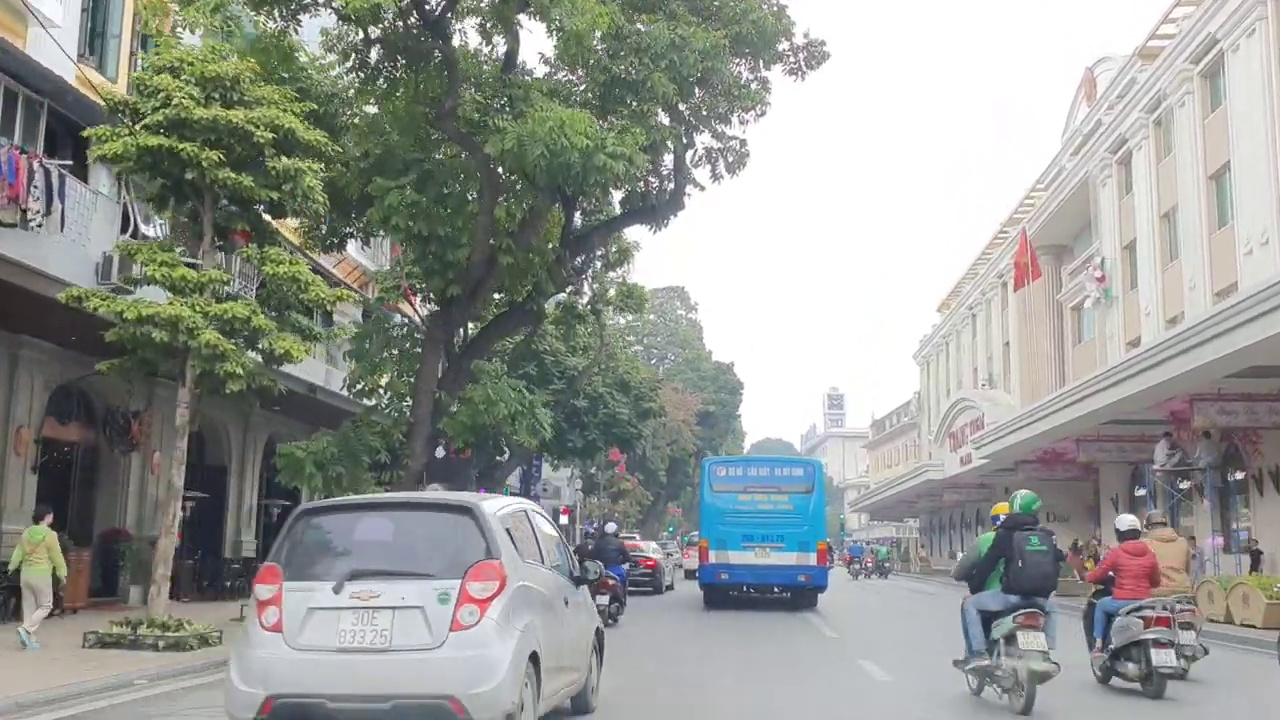person: (336, 608, 393, 649), (1016, 628, 1048, 651), (1146, 647, 1179, 668)
